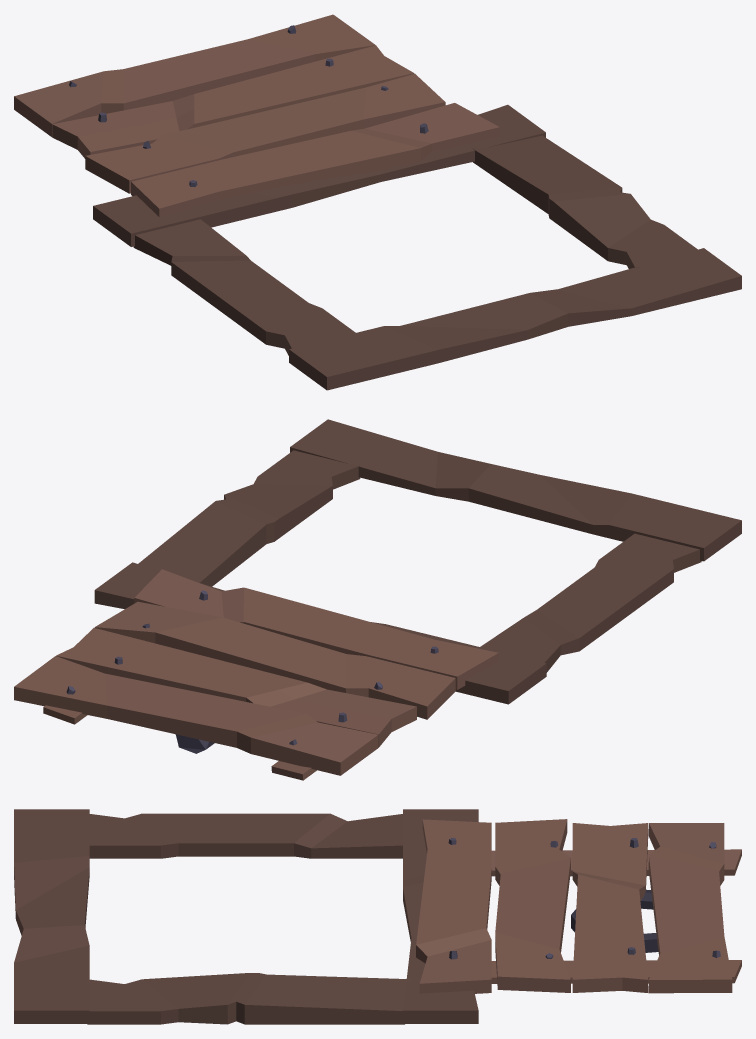
Rendered from Dungeon_Trapdoor_open.glb.
The picture shows the model from 3 angles, top to bottom: view 1: azimuth 30°, elevation 25°; view 2: azimuth 150°, elevation 25°; view 3: azimuth 270°, elevation 25°; orthographic projection.
Parts seen in each view (by area): view 1: Trapdoor_open; view 2: Trapdoor_open; view 3: Trapdoor_open.
Part boxes in pixels (x1,y1,x2,y2): Trapdoor_open: [14, 14, 741, 390]; Trapdoor_open: [14, 419, 741, 780]; Trapdoor_open: [14, 809, 741, 1024].
Bounding box in the file's own units: 1.74 × 0.2039 × 2.66.
